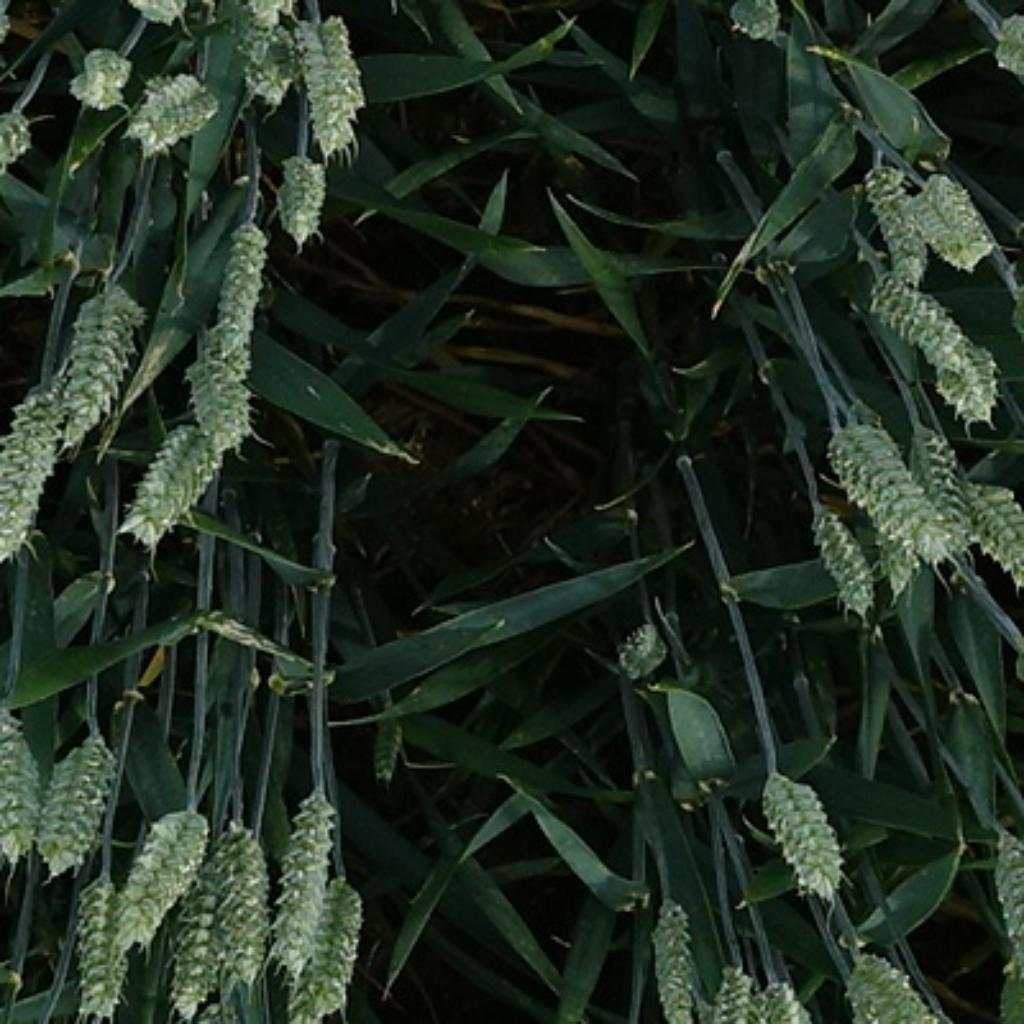0-0: (811, 409, 965, 565), (30, 276, 145, 450), (157, 804, 242, 1024), (258, 780, 337, 985), (110, 808, 215, 953), (117, 404, 232, 535), (747, 760, 852, 901), (38, 727, 128, 883), (2, 358, 61, 578), (903, 417, 980, 581), (853, 272, 966, 377), (847, 158, 934, 294), (291, 0, 366, 153), (66, 872, 138, 1016), (171, 335, 261, 450), (215, 824, 271, 990), (921, 329, 1013, 426), (125, 64, 220, 156), (207, 217, 271, 353), (302, 880, 366, 1016), (803, 496, 878, 611), (957, 468, 1024, 596), (647, 897, 714, 1024), (834, 949, 944, 1024), (913, 172, 993, 274), (977, 824, 1024, 985), (2, 706, 43, 872), (268, 148, 335, 243), (609, 606, 686, 686), (358, 698, 417, 796), (61, 38, 133, 110), (215, 0, 301, 60), (711, 967, 798, 1024), (236, 55, 310, 120), (0, 92, 42, 178), (721, 0, 791, 40), (987, 11, 1024, 86), (122, 0, 201, 32)
